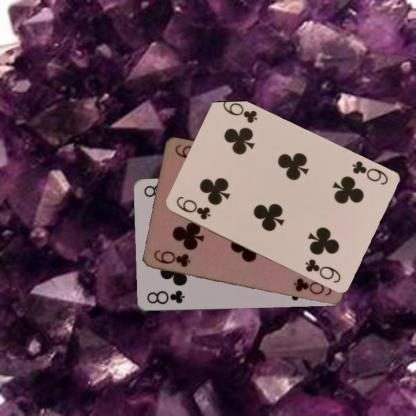6c: (348, 158, 389, 187), (174, 194, 212, 221), (151, 247, 191, 269)
8c: (144, 288, 185, 306)
